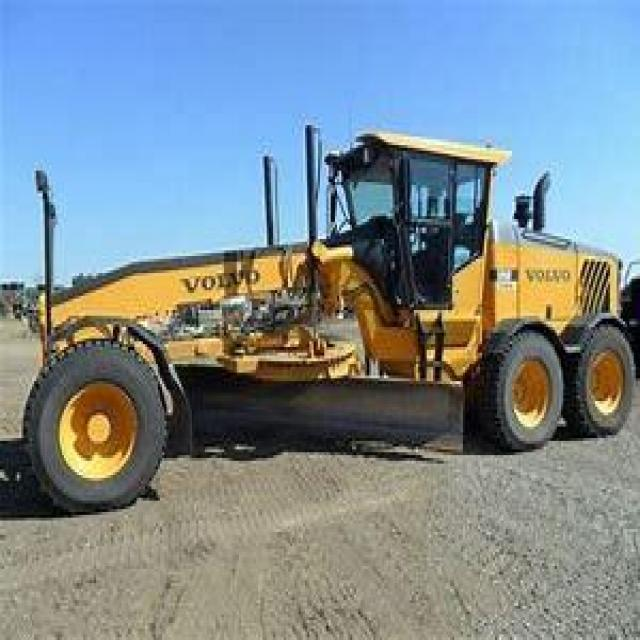Grader: (11, 100, 638, 520)
